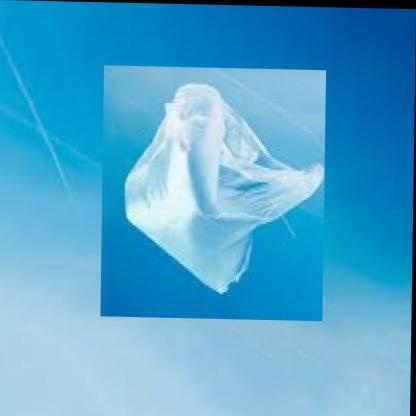trash: (125, 83, 323, 293)
